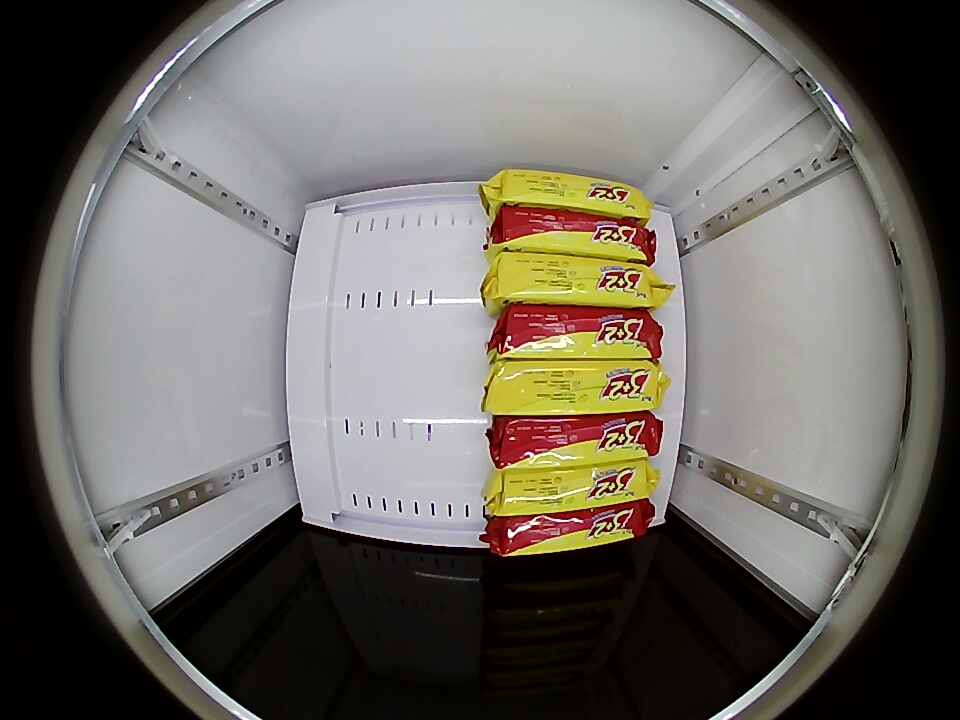3+2-2: (483, 361, 665, 415), (489, 255, 661, 308), (489, 465, 656, 515), (485, 169, 650, 219)
3jia2: (491, 414, 663, 467), (494, 308, 663, 360), (489, 504, 651, 557), (494, 209, 655, 259)
